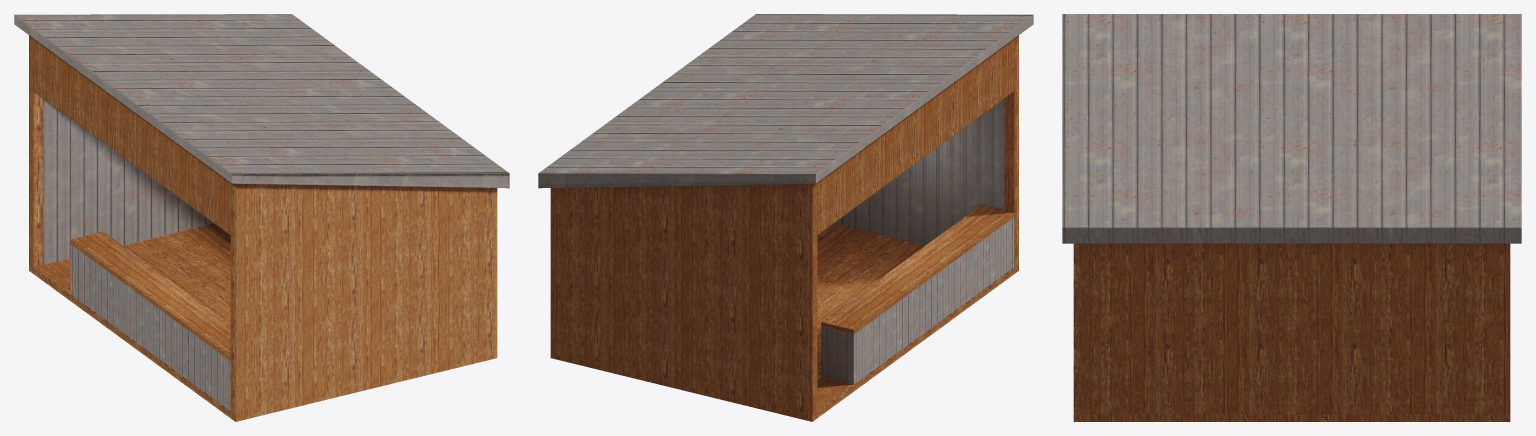
Rendered from shack-1-with-sign-baked.glb.
3 renders of one model, left to right at view 1: azimuth 30°, elevation 25°; view 2: azimuth 150°, elevation 25°; view 3: azimuth 270°, elevation 25°, orthographic. The views are drawn at different scales.
Visible parts, largest first — view 1: Shack-1.001_Baked; view 2: Shack-1.001_Baked; view 3: Shack-1.001_Baked.
Part boxes in pixels (bbox=[...]): Shack-1.001_Baked: bbox=[14, 14, 509, 421]; Shack-1.001_Baked: bbox=[538, 14, 1033, 421]; Shack-1.001_Baked: bbox=[1062, 14, 1521, 421].
Size of the model in its own units: 10.6 by 9.28 by 14.4.
1 material, 1 textured.
